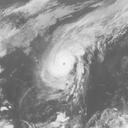cyclone: (38, 38, 89, 91)
